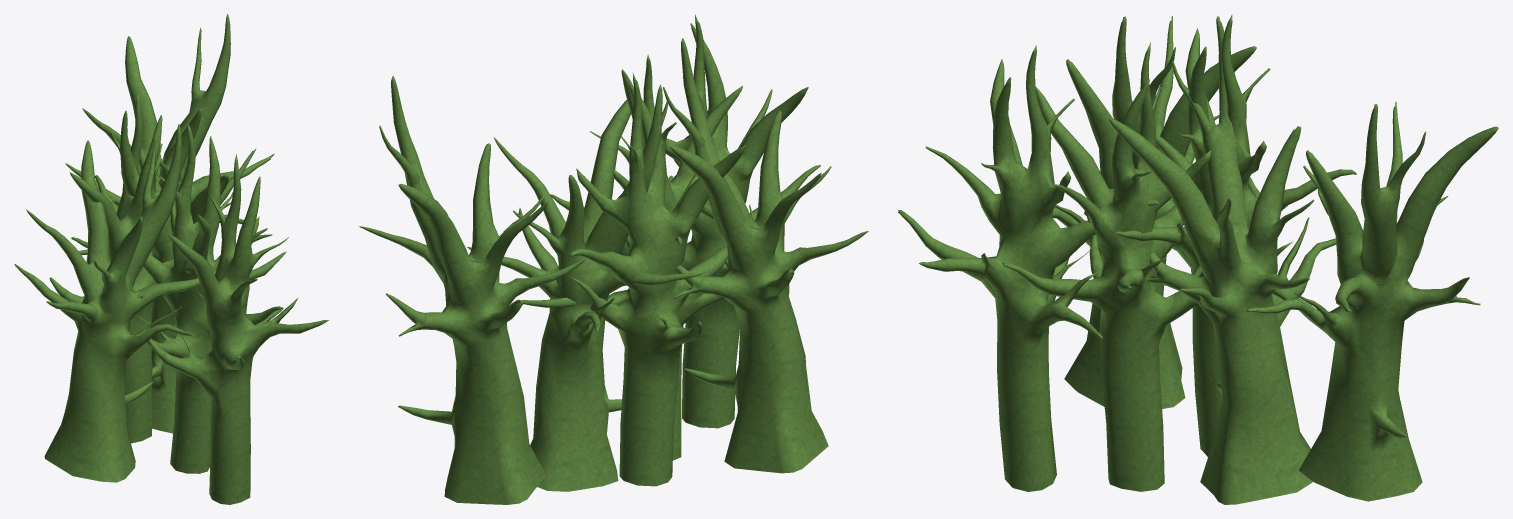
File: SM_ENV_KNFRST_DistanceTree_GroupB.FBX
3 renders of one model, left to right at view 1: azimuth 30°, elevation 25°; view 2: azimuth 150°, elevation 25°; view 3: azimuth 270°, elevation 25°, orthographic. The views are drawn at different scales.
Parts seen in each view (by area): view 1: SM_ENV_KNFRST_DistanceTree_GroupB; view 2: SM_ENV_KNFRST_DistanceTree_GroupB; view 3: SM_ENV_KNFRST_DistanceTree_GroupB.
Part boxes in pixels (box(x1,y1,x2,y2)): SM_ENV_KNFRST_DistanceTree_GroupB: box(14, 14, 328, 504); SM_ENV_KNFRST_DistanceTree_GroupB: box(359, 14, 868, 504); SM_ENV_KNFRST_DistanceTree_GroupB: box(898, 14, 1498, 504).
Bounding box in the file's own units: 9489 × 9782 × 11597.
